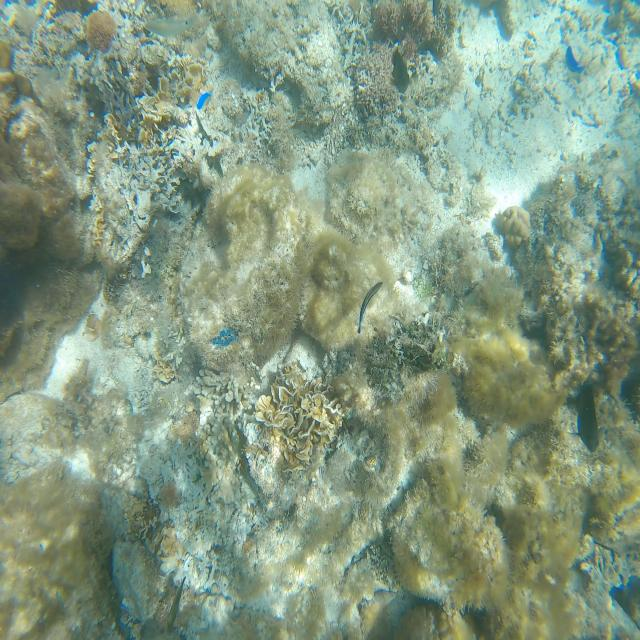kurohagi: (576, 385, 598, 452), (392, 50, 409, 93)
rurisuzumedai: (566, 46, 583, 72), (196, 92, 211, 109)
